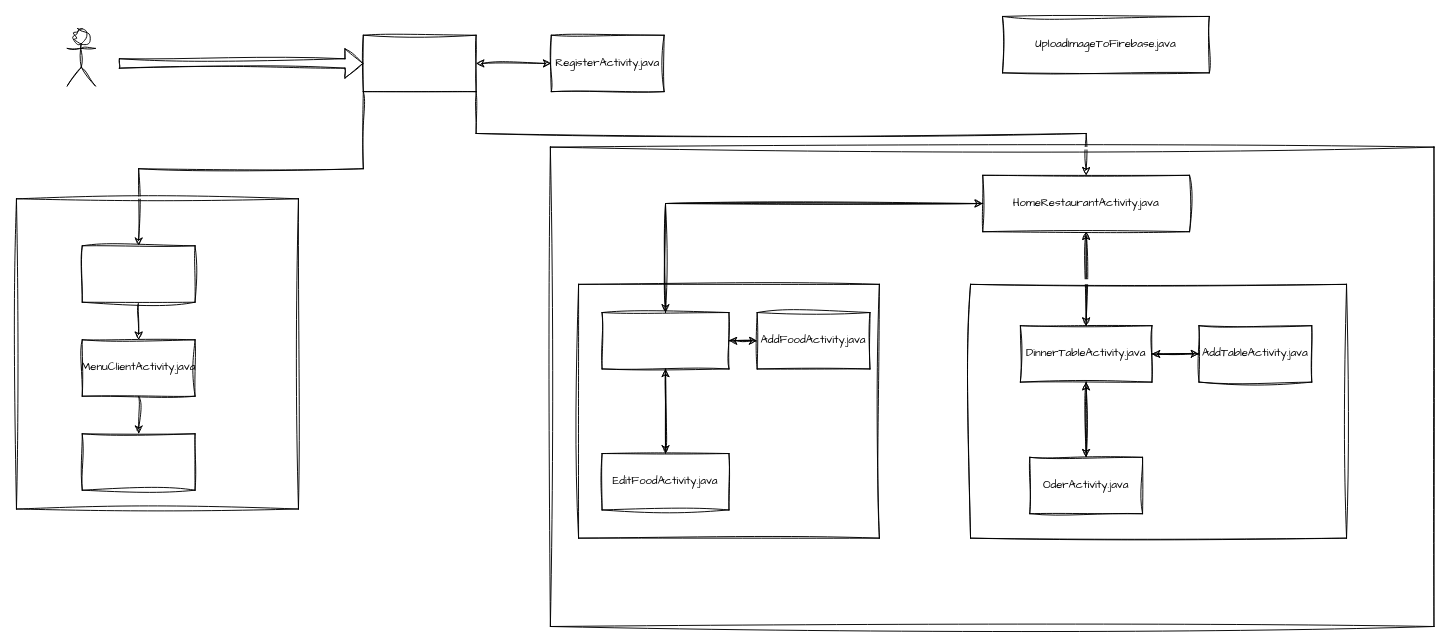
This 1450x643 diagram has some shape labels left out. The centre of each missing label's shape, as x and y in pixels:
"Actor" belongs at [80,57].
"HomeClientActivity.java" belongs at [138,273].
"LoginActivity.java" belongs at [419,63].
"OrderClientActivity.java" belongs at [138,461].
"ShowMenuActivity.java" belongs at [665,340].
